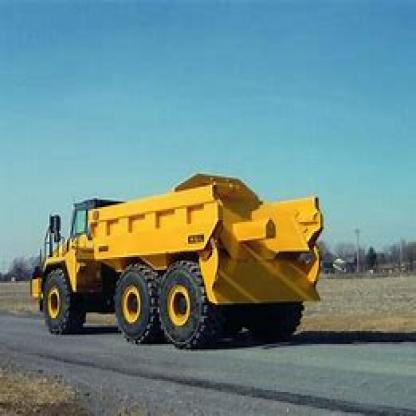dump_truck: (32, 170, 336, 361)
